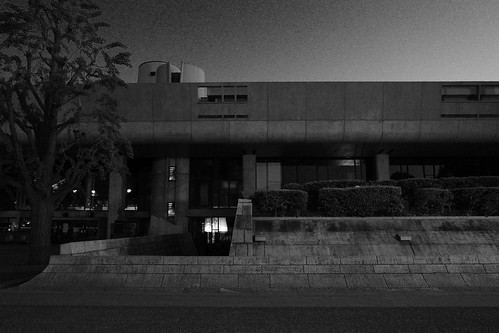building: (119, 67, 497, 298)
sky: (141, 1, 499, 72)
tree: (1, 1, 126, 244)
